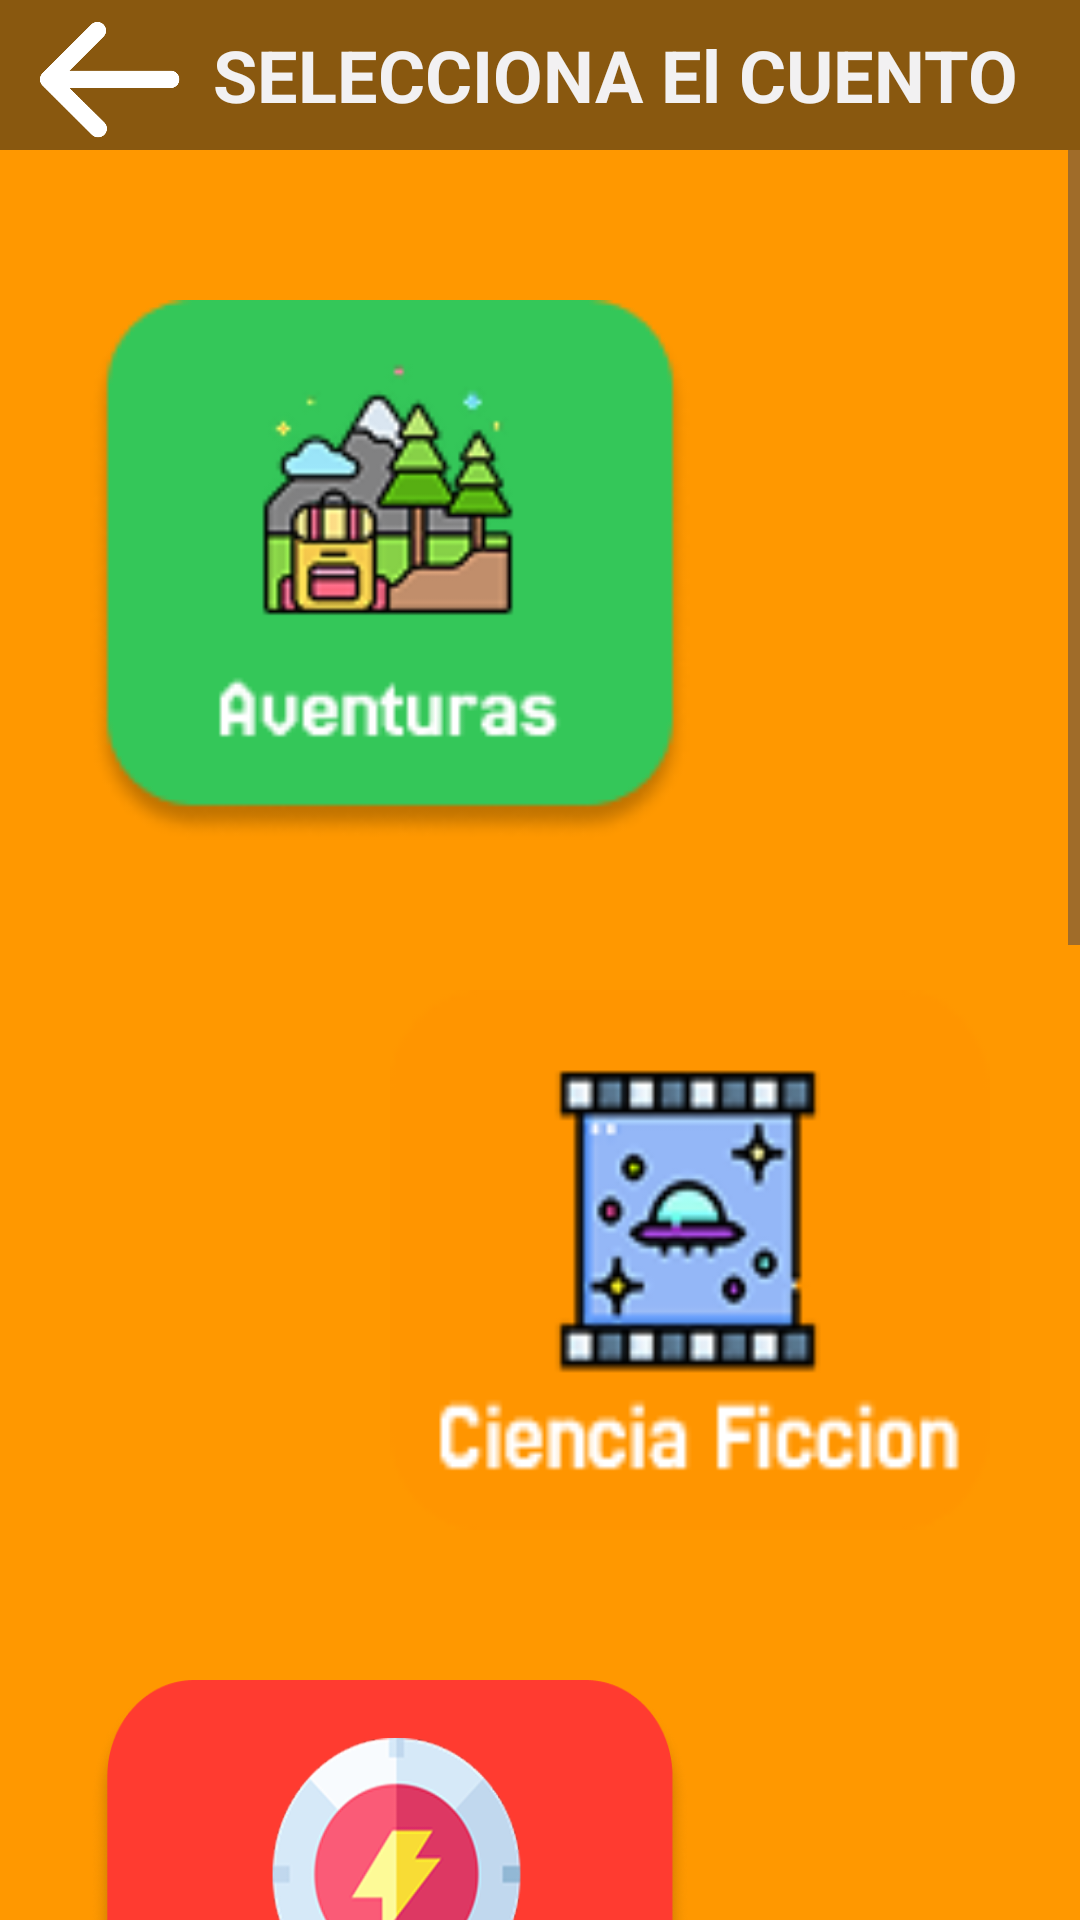

Point at icon controls on the screen. Image size 1080px x 1920px, points as point (x, y).
flecha izquierda: point (110, 80)
